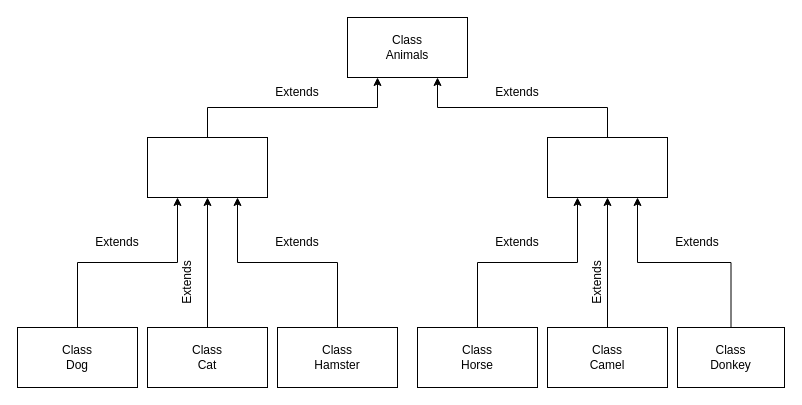
The diagram is 802 pixels wide and 405 high, and some of its shapes have lost their labels. The shapes that lost their labels are listed below. From the top down, each one's centre as x and y in pixels, then its label:
At (x=207, y=167): "Class home Animals".
At (x=607, y=167): "Class pack Animals".
